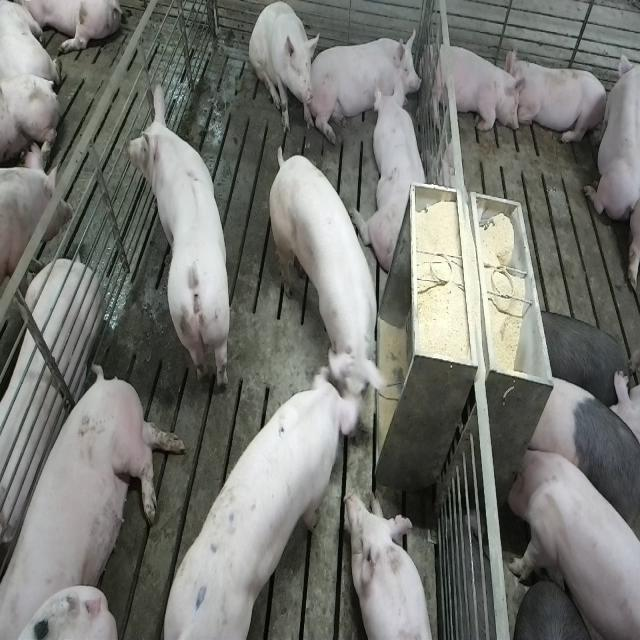Lateral_lying: (4, 362, 187, 635), (0, 258, 103, 555)
Sitting: (250, 2, 318, 134)
Standing: (155, 361, 367, 634), (123, 81, 231, 397), (267, 143, 385, 418), (505, 441, 638, 640), (524, 372, 638, 568), (0, 146, 73, 354), (532, 305, 628, 411)
Sternal_lying: (348, 489, 438, 640), (362, 83, 430, 273), (311, 31, 419, 136), (426, 38, 525, 138), (509, 51, 609, 149), (584, 42, 637, 224)
